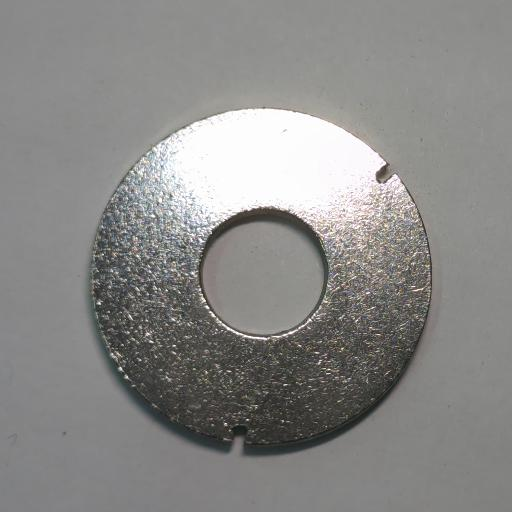burr: (369, 158, 398, 188), (225, 422, 250, 449)
